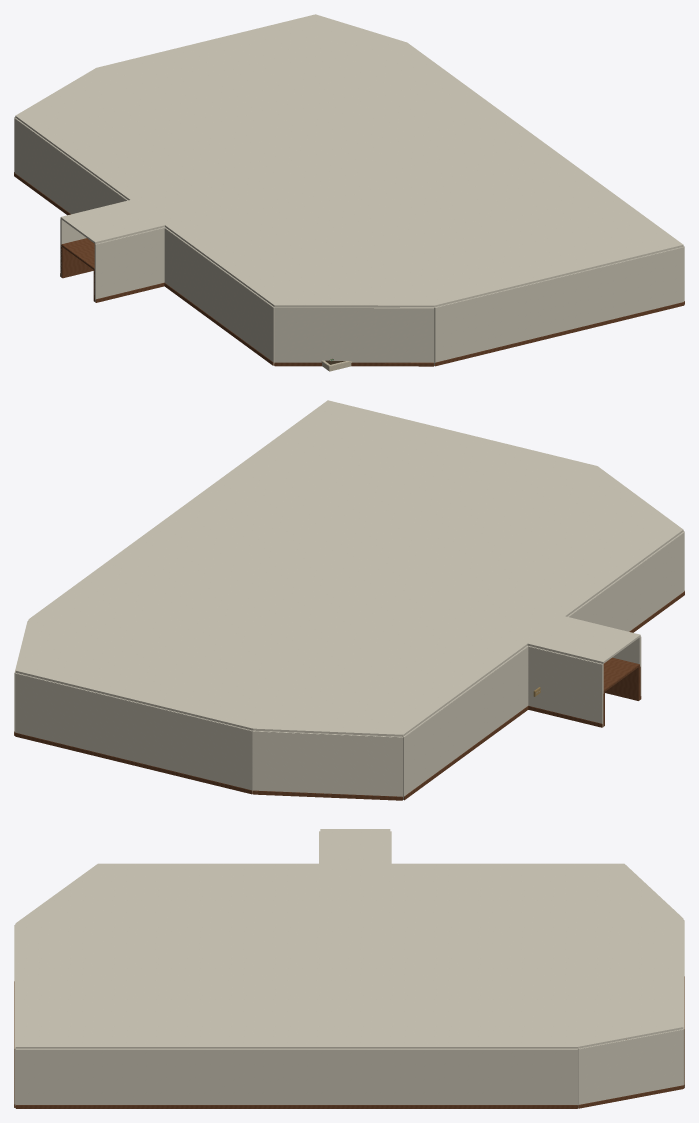
Rendered from SOL_D06_directory_10_remaining_batch.glb.
The picture shows the model from 3 angles, top to bottom: view 1: azimuth 30°, elevation 25°; view 2: azimuth 150°, elevation 25°; view 3: azimuth 270°, elevation 25°; orthographic projection. The views are drawn at different scales.
Visible parts, largest first — view 1: Cafe_opaque_roof__EXPORT, Enclosure_6__EXPORT, Enclosure_7__EXPORT, Enclosure_8__EXPORT, Enclosure_1__EXPORT, Enclosure_9__EXPORT, Wall_base_6__EXPORT, Wall_base_7__EXPORT, Entry_head__EXPORT, Entry_cheek31.15__EXPORT; view 2: Cafe_opaque_roof__EXPORT, Enclosure_3__EXPORT, Enclosure_2__EXPORT, Enclosure_1__EXPORT, Enclosure_8__EXPORT, Enclosure_0__EXPORT, Wall_base_3__EXPORT, Entry_head__EXPORT, Wall_base_2__EXPORT, Entry_cheek36.85__EXPORT; view 3: Cafe_opaque_roof__EXPORT, Enclosure_5__EXPORT, Enclosure_4__EXPORT, Wall_base_5__EXPORT, Wall_base_4__EXPORT.
Boxes of the visible parts, bbox=[...] form: Cafe_opaque_roof__EXPORT: bbox=[15, 14, 683, 307]; Enclosure_6__EXPORT: bbox=[434, 246, 683, 365]; Enclosure_7__EXPORT: bbox=[274, 307, 434, 362]; Enclosure_8__EXPORT: bbox=[164, 227, 274, 365]; Enclosure_1__EXPORT: bbox=[14, 117, 128, 214]; Enclosure_9__EXPORT: bbox=[94, 227, 164, 302]; Wall_base_6__EXPORT: bbox=[434, 302, 684, 366]; Wall_base_7__EXPORT: bbox=[274, 362, 434, 366]; Entry_head__EXPORT: bbox=[61, 238, 94, 270]; Entry_cheek31.15__EXPORT: bbox=[60, 246, 93, 278]; Cafe_opaque_roof__EXPORT: bbox=[15, 400, 683, 736]; Enclosure_3__EXPORT: bbox=[15, 673, 252, 793]; Enclosure_2__EXPORT: bbox=[253, 730, 402, 796]; Enclosure_1__EXPORT: bbox=[403, 646, 528, 799]; Enclosure_8__EXPORT: bbox=[567, 532, 684, 631]; Enclosure_0__EXPORT: bbox=[528, 646, 603, 726]; Wall_base_3__EXPORT: bbox=[15, 732, 252, 794]; Entry_head__EXPORT: bbox=[603, 657, 639, 692]; Wall_base_2__EXPORT: bbox=[253, 790, 402, 800]; Entry_cheek36.85__EXPORT: bbox=[605, 666, 640, 700]; Cafe_opaque_roof__EXPORT: bbox=[15, 829, 683, 1048]; Enclosure_5__EXPORT: bbox=[15, 1048, 577, 1104]; Enclosure_4__EXPORT: bbox=[578, 1029, 683, 1107]; Wall_base_5__EXPORT: bbox=[15, 1105, 577, 1108]; Wall_base_4__EXPORT: bbox=[578, 1085, 683, 1108].
Size of the model in its own units: 44.15 by 5.78 by 57.3.
37 materials, 36 textured.
